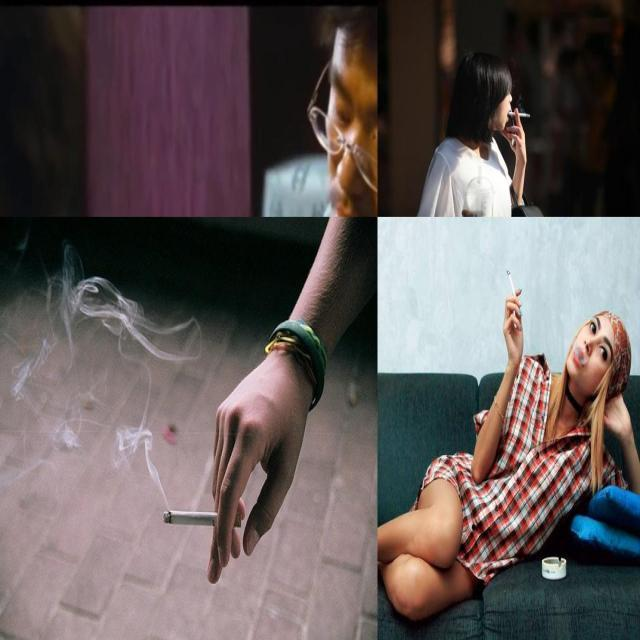smoking: (162, 508, 244, 530), (505, 266, 519, 306), (508, 110, 531, 118)
